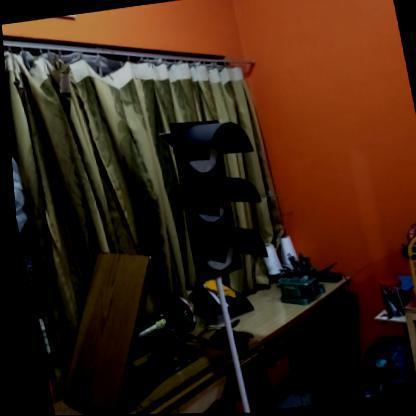green: (165, 113, 270, 280)
